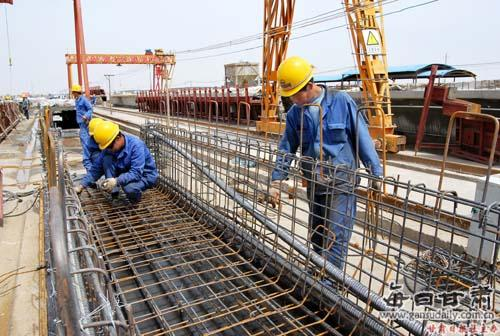gloves: (270, 152, 293, 181), (102, 176, 117, 191), (371, 175, 383, 191)
hard-hat: (275, 56, 314, 98), (93, 120, 120, 150)
person: (270, 55, 384, 291), (74, 119, 159, 204)
ppe-suit: (270, 83, 384, 286), (79, 132, 159, 201)
